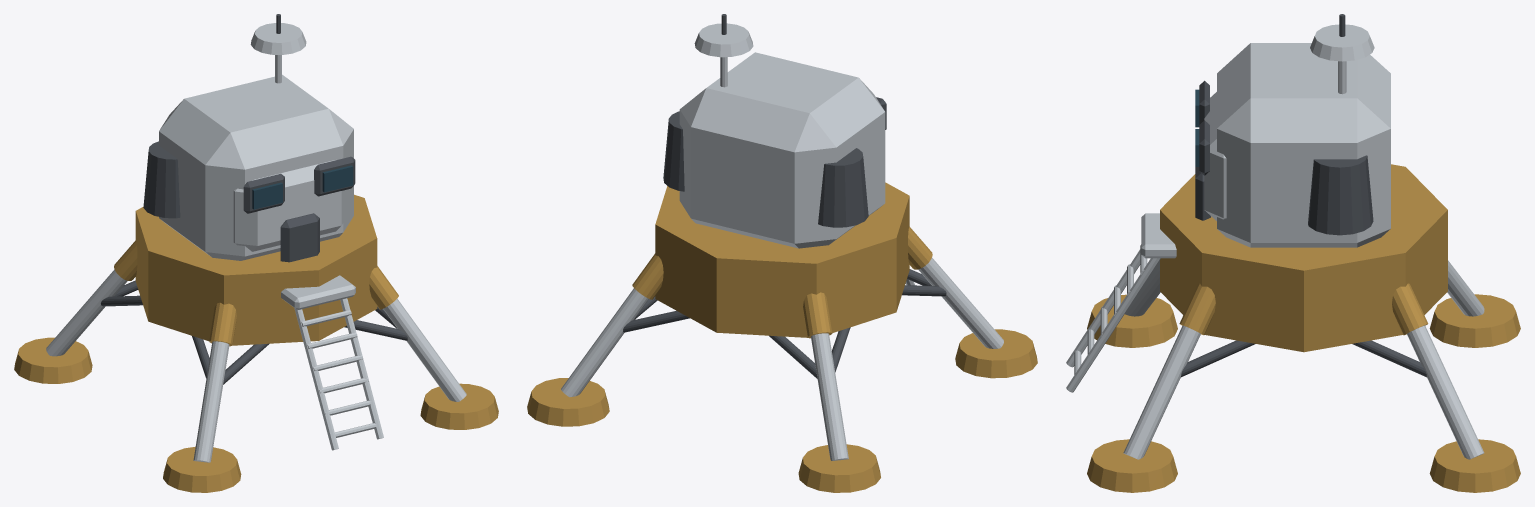
Rendered from NEW_RECOVERY_127_LOD0.fbx.
The picture shows the model from 3 angles, left to right: view 1: azimuth 30°, elevation 25°; view 2: azimuth 150°, elevation 25°; view 3: azimuth 270°, elevation 25°; orthographic projection. The views are drawn at different scales.
Parts seen in each view (by area): view 1: Generic lunar lander solid decorative assembly; view 2: Generic lunar lander solid decorative assembly; view 3: Generic lunar lander solid decorative assembly.
Part boxes in pixels (x1=…): Generic lunar lander solid decorative assembly: x1=14, y1=14, x2=498, y2=492; Generic lunar lander solid decorative assembly: x1=527, y1=14, x2=1037, y2=492; Generic lunar lander solid decorative assembly: x1=1066, y1=14, x2=1520, y2=492.
Size of the model in its own units: 362 by 379 by 375.
